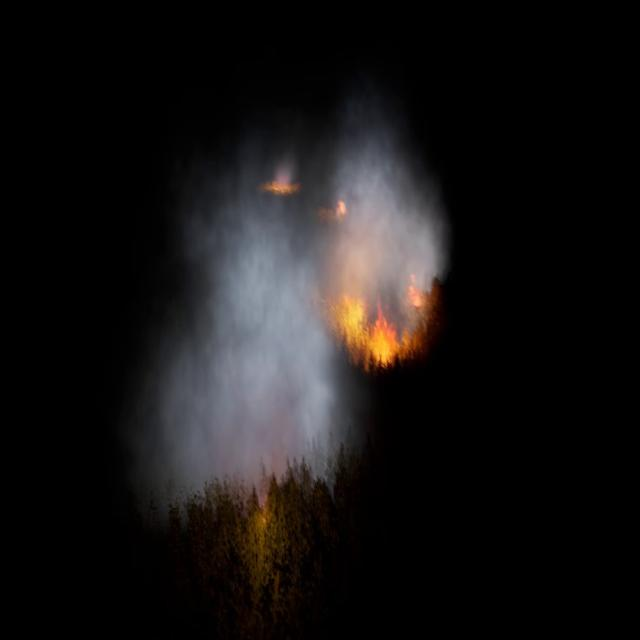fire: (322, 287, 423, 371), (408, 271, 423, 304)
smoke: (130, 95, 458, 524)
